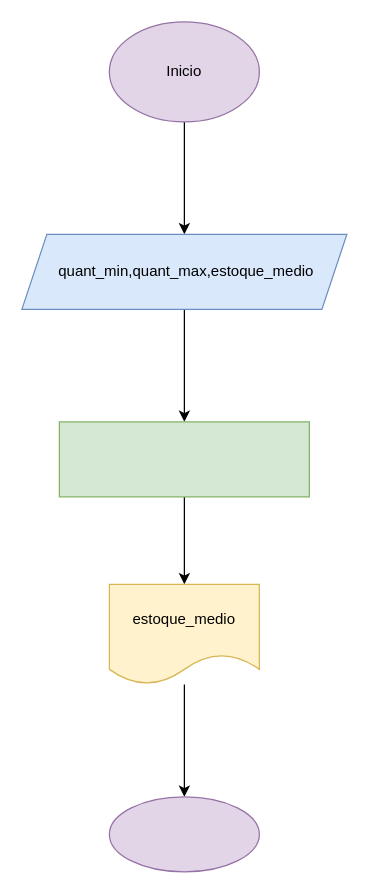
The diagram is 369 pixels wide and 894 high, and some of its shapes have lost their labels. The centre of each missing label's shape, as x and y in pixels:
estoque_medio <- (quant_min+quant_max)/2: point (183, 459)
fim: point (183, 834)
